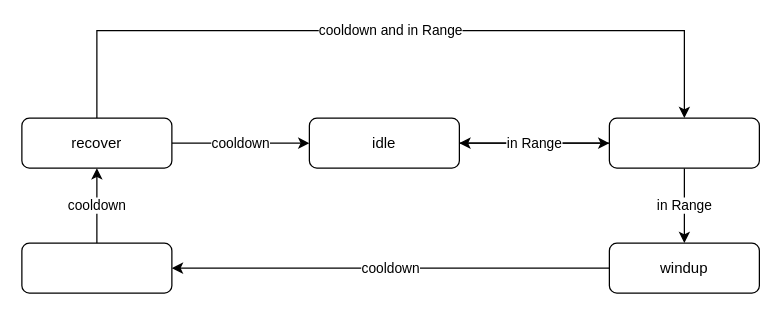
The diagram is 781 pixels wide and 315 high, and some of its shapes have lost their labels. The shapes that lost their labels are listed below. From the top down, each one's box as (x1, y1, x2, y2) in pixels, then its label:
(608, 117, 759, 168): chase
(21, 242, 172, 293): attack
